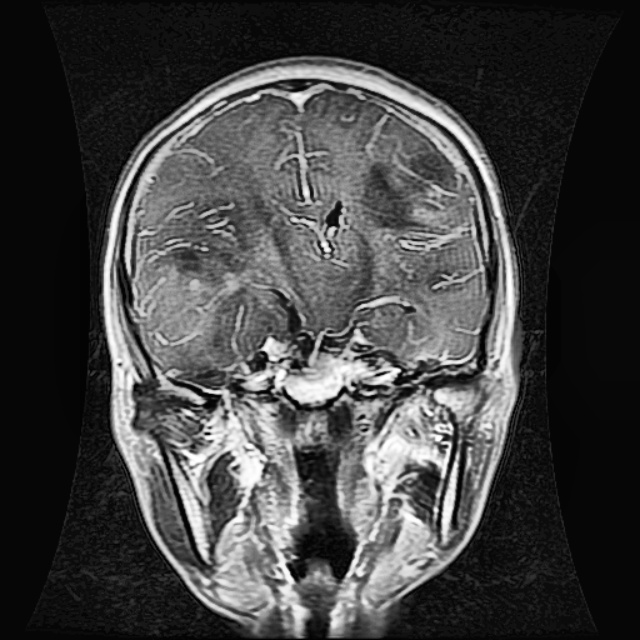Meningioma: (363, 163, 428, 229)
